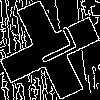L: (25, 25, 78, 70)
